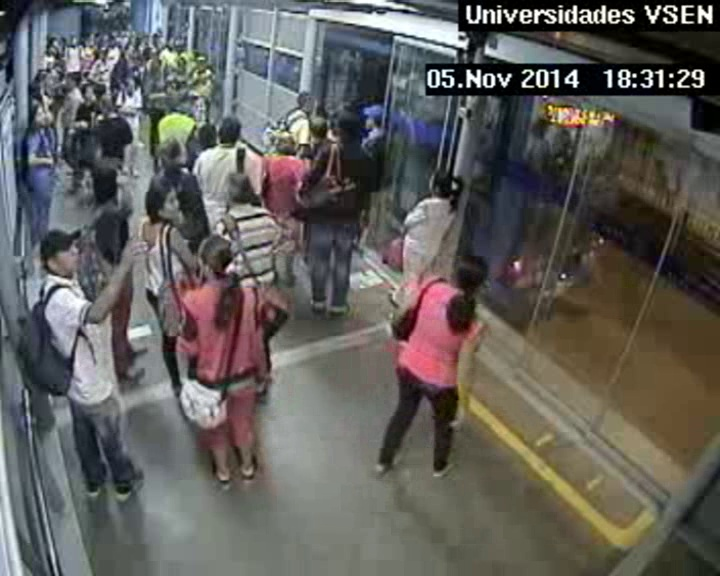person: (40, 227, 84, 277), (196, 234, 235, 278), (145, 188, 180, 225), (454, 253, 487, 292), (157, 139, 189, 172), (92, 167, 123, 198), (226, 173, 254, 206), (336, 112, 362, 142), (428, 171, 453, 202), (219, 116, 245, 144), (275, 137, 297, 159), (28, 103, 48, 126), (199, 124, 219, 147), (308, 119, 328, 142), (363, 107, 382, 129), (297, 93, 316, 114), (98, 95, 116, 113), (82, 83, 97, 101), (170, 99, 186, 114), (196, 96, 210, 111), (130, 51, 145, 65), (67, 73, 81, 87), (36, 70, 49, 84), (196, 58, 209, 71), (54, 60, 67, 73), (177, 56, 188, 69), (149, 49, 160, 61), (116, 59, 127, 71), (48, 46, 58, 58), (69, 36, 79, 47), (149, 32, 160, 42), (49, 37, 59, 47), (83, 37, 92, 47), (104, 48, 113, 58), (95, 49, 104, 58), (139, 36, 148, 45), (166, 43, 174, 51), (129, 36, 137, 44), (102, 34, 110, 42), (119, 31, 127, 38), (109, 36, 116, 43), (126, 25, 133, 32)
